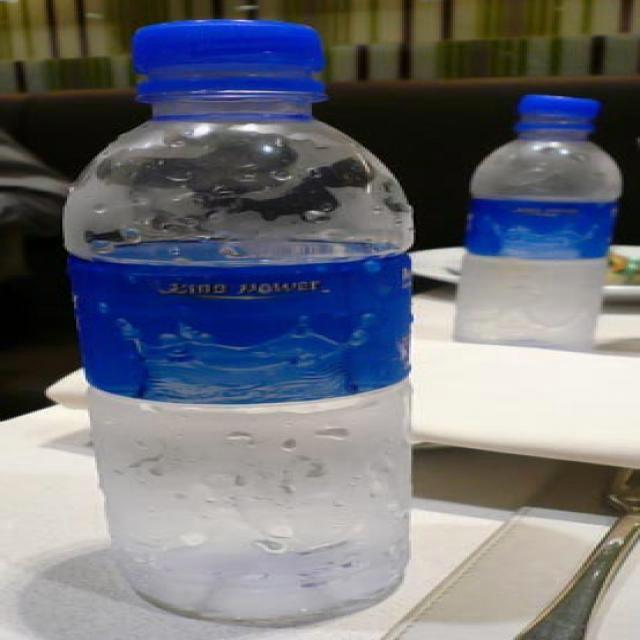bottle: (63, 20, 410, 620), (451, 95, 622, 355)
